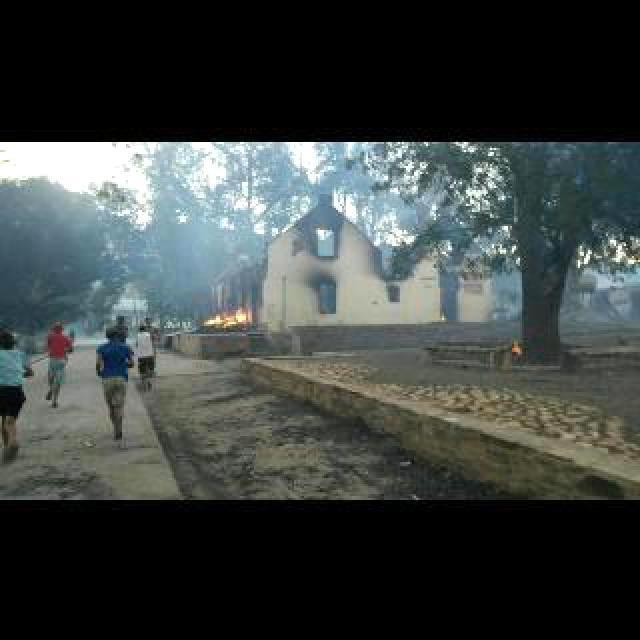Fire: (204, 310, 248, 324), (504, 334, 524, 358)
Smoke: (102, 161, 326, 300)
